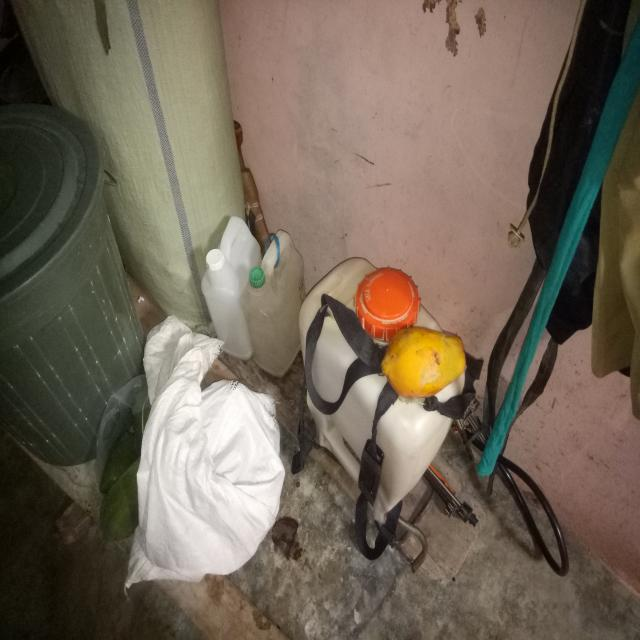Pepaya rippen: (378, 330, 473, 404)
